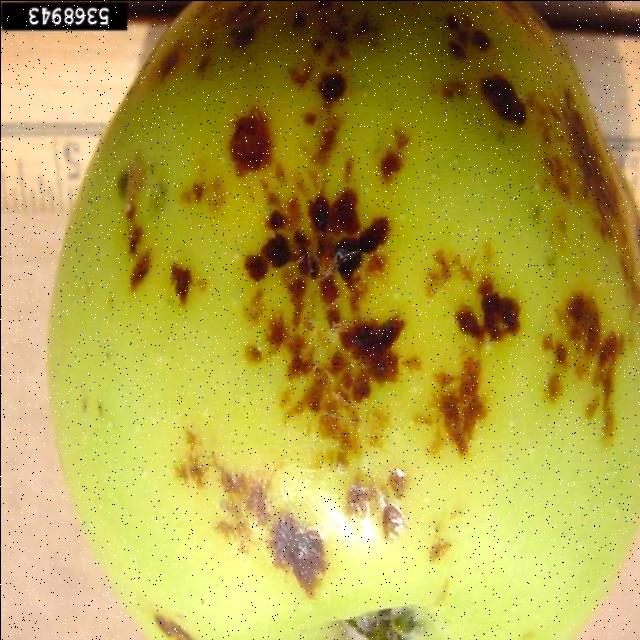BLOTCH: (51, 14, 614, 630)
